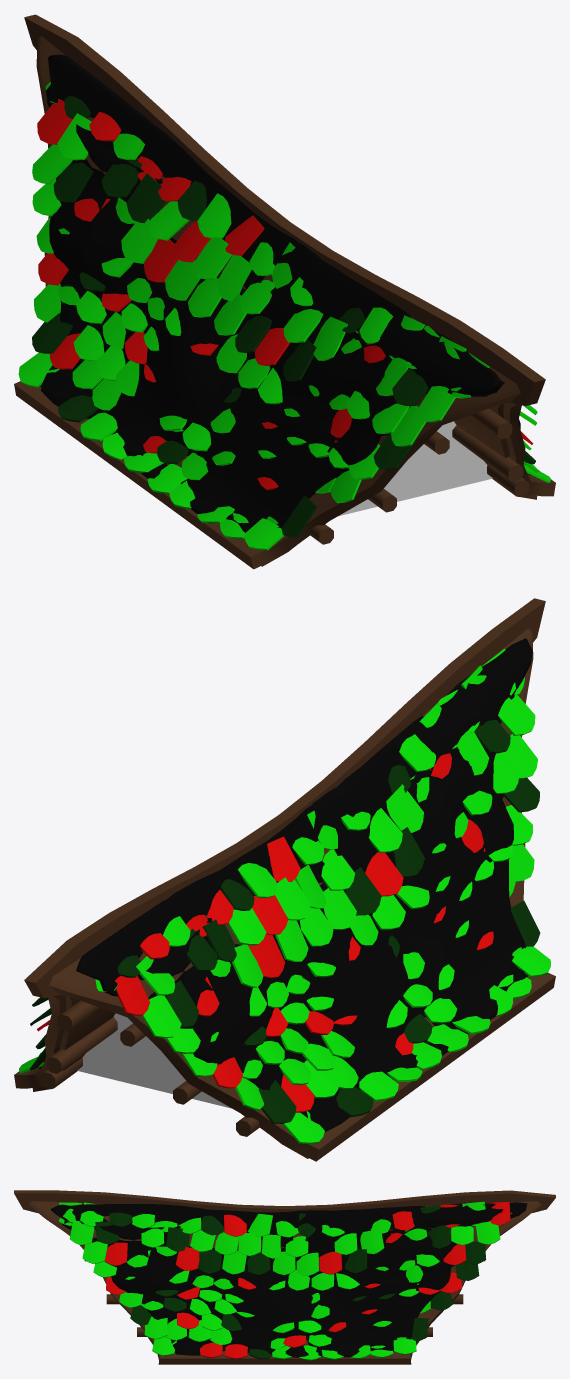
File: Roof.fbx
3 renders of one model, top to bottom at view 1: azimuth 30°, elevation 25°; view 2: azimuth 150°, elevation 25°; view 3: azimuth 270°, elevation 25°, orthographic. The views are drawn at different scales.
Parts seen in each view (by area): view 1: Roof; view 2: Roof; view 3: Roof.
Boxes of the visible parts, x1,y1,x2,y2 form: Roof: (14,14,555,569); Roof: (14,598,555,1161); Roof: (14,1190,555,1364).
Size of the model in its own units: 5.16 by 4 by 14.48.
